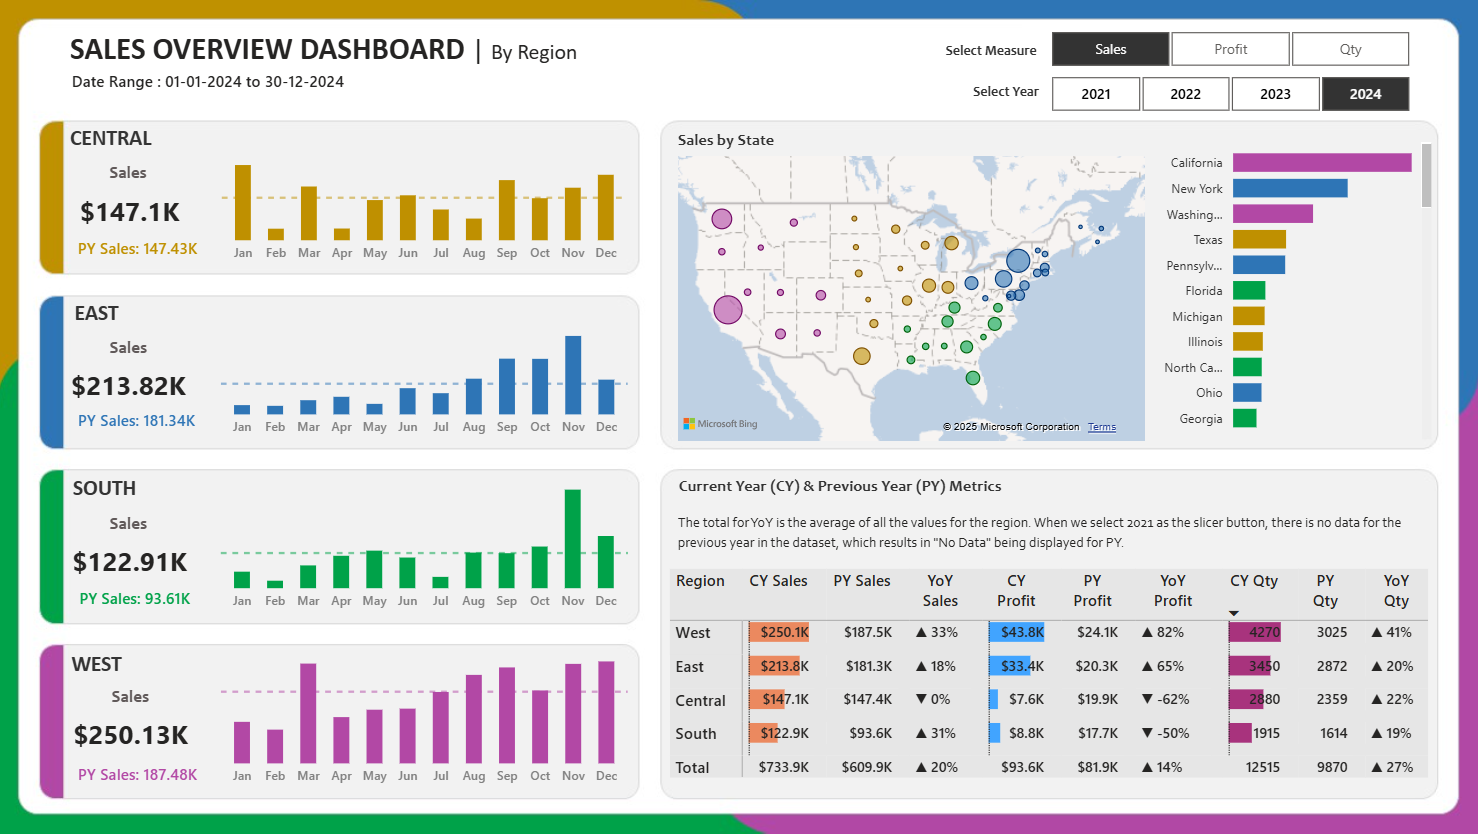

This screenshot's page, from the dashboard's own definition file:
{"tool":"powerbi","page":{"name":"Sales Overview Report","canvas":[1280,720],"ordinal":0},"visuals":[{"type":"clusteredColumnChart","fields":{"Y":["Orders.Total Sales"],"Category":["Calendar Table.Month"]},"box":[190,103.6,360,132.7],"z":0},{"type":"textbox","box":[48.6,102.1,101.2,33.1],"z":1000},{"type":"card","fields":{"Values":["Orders.Total Sales"]},"box":[56.7,164.4,116.7,36.7],"z":2000},{"type":"slicer","fields":{"Values":["Parameter.Parameter"]},"box":[884.5,20.9,358.2,42.7],"z":3000},{"type":"card","fields":{"Values":["Orders.Title"]},"box":[81.1,136.7,65.6,25.6],"z":4000},{"type":"clusteredColumnChart","fields":{"Y":["Orders.Total Sales"],"Category":["Calendar Table.Month"]},"box":[188.9,254.4,361.4,132],"z":5000},{"type":"textbox","box":[36.2,252.7,100.9,32.8],"z":6000},{"type":"card","fields":{"Values":["Orders.Total Sales"]},"box":[56.3,314.5,116.4,36.2],"z":7000},{"type":"card","fields":{"Values":["Orders.Title"]},"box":[82.2,287.8,64.4,26.7],"z":8000},{"type":"clusteredColumnChart","fields":{"Y":["Orders.Total Sales"],"Category":["Calendar Table.Month"]},"box":[189.1,404.5,360.9,131.8],"z":9000},{"type":"textbox","box":[43.1,403.7,100.9,32.8],"z":10000},{"type":"card","fields":{"Values":["Orders.Total Sales"]},"box":[56.7,466.7,116.7,36.7],"z":11000},{"type":"card","fields":{"Values":["Orders.Title"]},"box":[82.2,438.9,64.4,25.6],"z":12000},{"type":"clusteredColumnChart","fields":{"Y":["Orders.Total Sales"],"Category":["Calendar Table.Month"]},"box":[188.9,555.5,361.4,132],"z":13000},{"type":"textbox","box":[36.2,555.5,100.9,32.8],"z":14000},{"type":"card","fields":{"Values":["Orders.Total Sales"]},"box":[57.5,615.8,116.7,36.7],"z":15000},{"type":"card","fields":{"Values":["Orders.Title"]},"box":[83.3,588.9,64.4,26.7],"z":16000},{"type":"textbox","box":[26.1,20.6,513.5,46.7],"z":17000},{"type":"map","title":"Sales by State","fields":{"Size":["Orders.Total Sales"],"Category":["Orders.State/Province"],"Series":["Orders.Region"]},"box":[583.3,112.5,413.3,273.3],"z":18000},{"type":"barChart","fields":{"Y":["Orders.Total Sales"],"Category":["Orders.State/Province"],"Series":["Orders.Region"]},"box":[990.9,110,251.8,273.6],"z":19000},{"type":"pivotTable","fields":{"Rows":["Orders.Region"],"Values":["Orders.CY Sales","Orders.PY Sales","Orders.YoY Sales","Orders.CY Profit","Orders.PY Profit","Orders.YoY Profit","Orders.CY Qty","Orders.PY Qty","Orders.YoY Qty"]},"box":[576.2,485.6,666.7,197.5],"z":20000},{"type":"slicer","fields":{"Values":["Calendar Table.Year"]},"box":[884.5,59.1,358.2,42.7],"z":21000},{"type":"card","fields":{"Values":["Orders.SalesPreviousYear"]},"box":[51.7,199.2,140.8,35],"z":22000},{"type":"card","fields":{"Values":["Orders.SalesPreviousYear"]},"box":[50.8,346.7,140.8,35.8],"z":23000},{"type":"card","fields":{"Values":["Orders.SalesPreviousYear"]},"box":[48.9,500,141.1,35.6],"z":24000},{"type":"card","fields":{"Values":["Orders.SalesPreviousYear"]},"box":[51.7,652.5,140.8,35.8],"z":25000},{"type":"textbox","box":[583.6,404.5,337.3,34.5],"z":26000},{"type":"card","fields":{"Values":["Orders.Date Range"]},"box":[33.6,55.5,298.2,34.5],"z":27000},{"type":"textbox","box":[806.4,28.2,103.6,30],"z":28000},{"type":"textbox","box":[819.1,63.6,103.6,30],"z":29000},{"type":"textbox","box":[582.7,435.5,643.6,51.8],"z":30000}]}

Visuals, with their boxes in screenshot pixels (x1, y1, x2, y2), scaled from the page's 1280x720 canvas onto the 1478x834 screenshot:
clusteredColumnChart - Orders.Total Sales x Calendar Table.Month: [219, 120, 635, 274]
textbox: [56, 118, 173, 157]
card - Orders.Total Sales: [65, 190, 200, 233]
slicer - Parameter.Parameter: [1021, 24, 1435, 74]
card - Orders.Title: [94, 158, 169, 188]
clusteredColumnChart - Orders.Total Sales x Calendar Table.Month: [218, 295, 635, 448]
textbox: [42, 293, 158, 331]
card - Orders.Total Sales: [65, 364, 199, 406]
card - Orders.Title: [95, 333, 169, 364]
clusteredColumnChart - Orders.Total Sales x Calendar Table.Month: [218, 469, 635, 621]
textbox: [50, 468, 166, 506]
card - Orders.Total Sales: [65, 541, 200, 583]
card - Orders.Title: [95, 508, 169, 538]
clusteredColumnChart - Orders.Total Sales x Calendar Table.Month: [218, 643, 635, 796]
textbox: [42, 643, 158, 681]
card - Orders.Total Sales: [66, 713, 201, 756]
card - Orders.Title: [96, 682, 171, 713]
textbox: [30, 24, 623, 78]
"Sales by State" map: [674, 130, 1151, 447]
barChart - Orders.Total Sales x Orders.State/Province: [1144, 127, 1435, 444]
pivotTable - Orders.Region x Orders.CY Sales: [665, 562, 1435, 791]
slicer - Calendar Table.Year: [1021, 68, 1435, 118]
card - Orders.SalesPreviousYear: [60, 231, 222, 271]
card - Orders.SalesPreviousYear: [59, 402, 221, 443]
card - Orders.SalesPreviousYear: [56, 579, 219, 620]
card - Orders.SalesPreviousYear: [60, 756, 222, 797]
textbox: [674, 469, 1063, 509]
card - Orders.Date Range: [39, 64, 383, 104]
textbox: [931, 33, 1051, 67]
textbox: [946, 74, 1065, 108]
textbox: [673, 504, 1416, 564]
